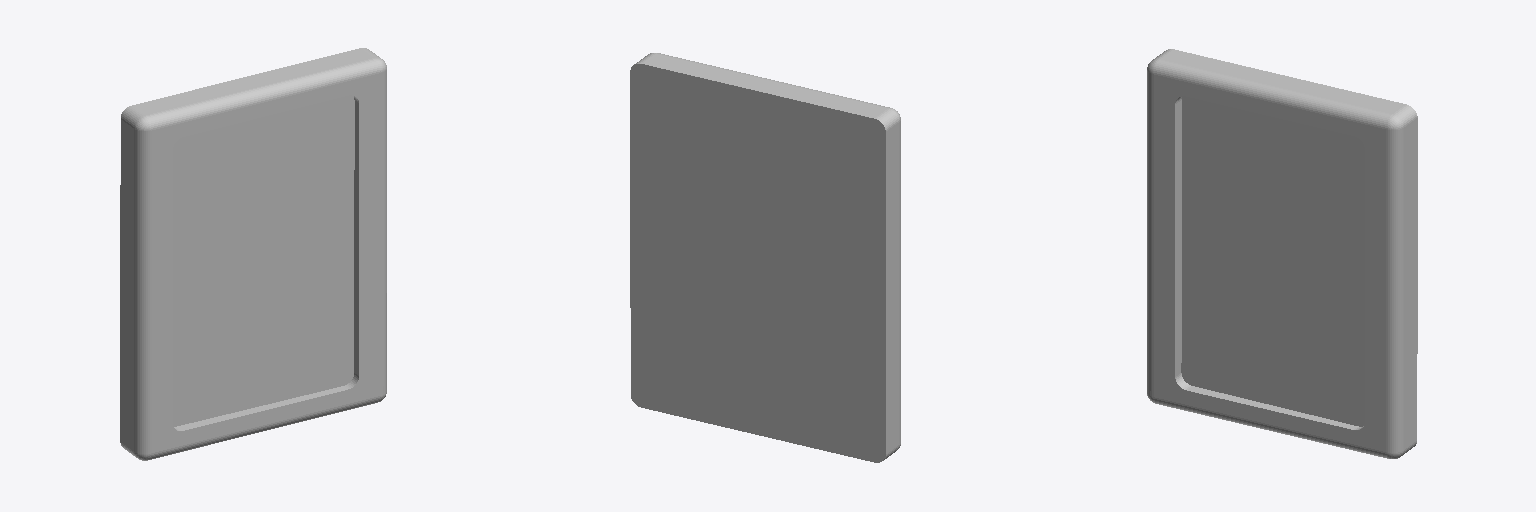
The model's file is michael jackson.obj.
The picture shows the model from 3 angles: view 1: azimuth 30°, elevation 25°; view 2: azimuth 150°, elevation 25°; view 3: azimuth 330°, elevation 25°; orthographic projection.
Visible parts, largest first — view 1: Object.1, Object.2; view 2: Object.2; view 3: Object.1, Object.2.
Boxes of the visible parts, box(x1,y1,x2,y2) form: Object.1: box(173, 95, 354, 426); Object.2: box(120, 48, 386, 460); Object.2: box(630, 53, 900, 462); Object.1: box(1181, 96, 1364, 426); Object.2: box(1147, 49, 1417, 458).
Size of the model in its own units: 64.18 by 83.24 by 9.57.